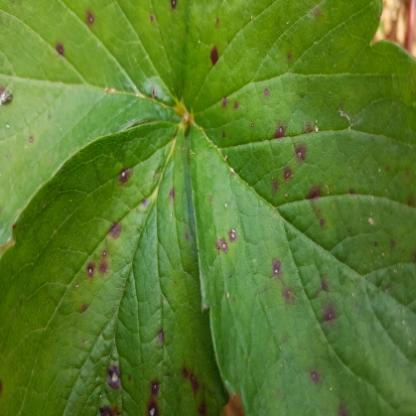Strawberry_Leaf_Spot: (184, 0, 415, 415), (0, 122, 232, 415), (0, 0, 189, 250)
